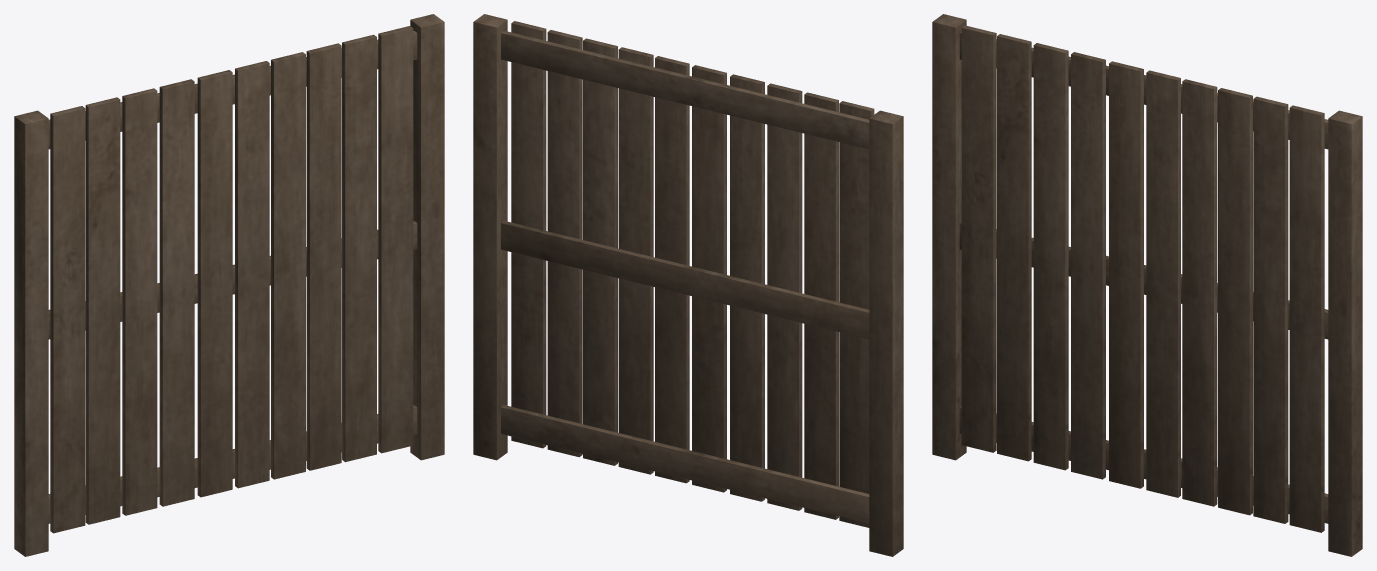
Rendered from wooden_slat_fence_f100a82c.glb.
3 views of the same model, side by side, from view 1: azimuth 30°, elevation 25°; view 2: azimuth 150°, elevation 25°; view 3: azimuth 330°, elevation 25° (orthographic).
Parts seen in each view (by area): view 1: wooden_slat_fence_f100a82c; view 2: wooden_slat_fence_f100a82c; view 3: wooden_slat_fence_f100a82c.
Part boxes in pixels (x1=…): wooden_slat_fence_f100a82c: x1=14, y1=14, x2=444, y2=556; wooden_slat_fence_f100a82c: x1=473, y1=14, x2=903, y2=556; wooden_slat_fence_f100a82c: x1=932, y1=14, x2=1362, y2=556.
Bounding box in the file's own units: 1.51 × 1.49 × 0.068.
1 material, 1 textured.
